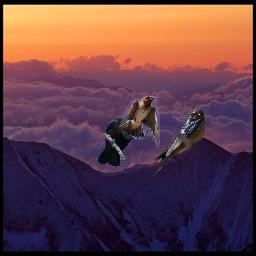Crow: (97, 115, 139, 167)
Swallow: (153, 109, 206, 176), (119, 96, 160, 147)
